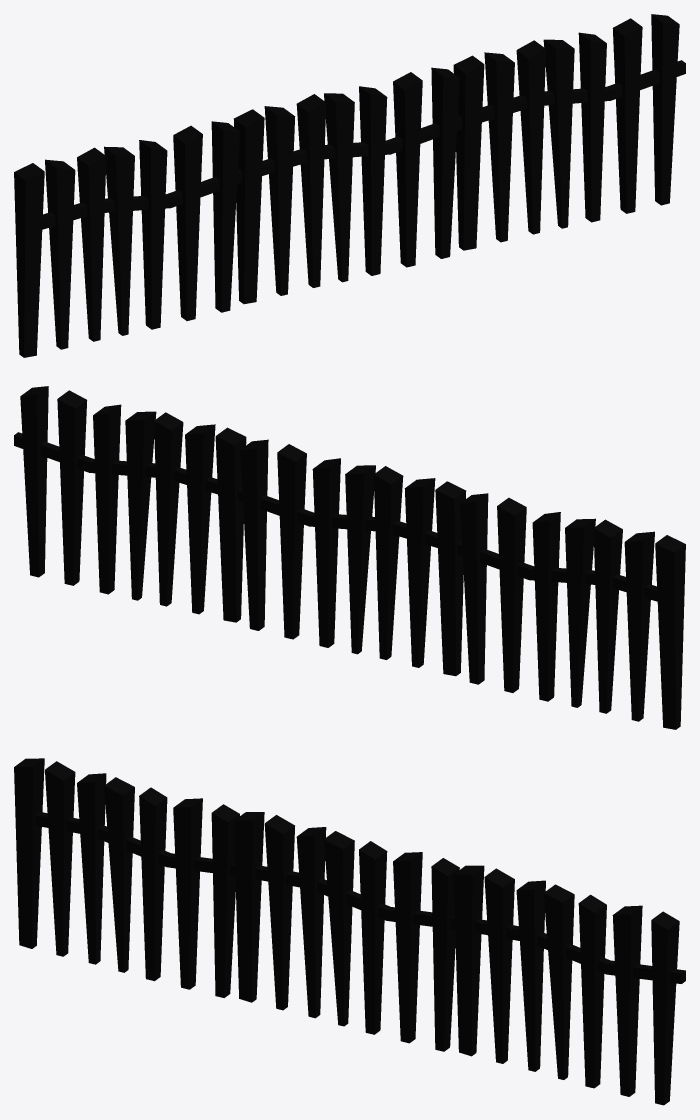
Rendered from MURANASA_NORMAL.fbx.
3 views of the same model, one above another, from view 1: azimuth 30°, elevation 25°; view 2: azimuth 150°, elevation 25°; view 3: azimuth 330°, elevation 25° (orthographic).
Visible parts, largest first — view 1: Cube.002; view 2: Cube.002; view 3: Cube.002.
Part boxes in pixels (box(x1,y1,x2,y2)): Cube.002: box(14, 14, 685, 357); Cube.002: box(14, 386, 685, 729); Cube.002: box(14, 758, 685, 1105).
Bounding box in the file's own units: 2103 × 568 × 64.8.
